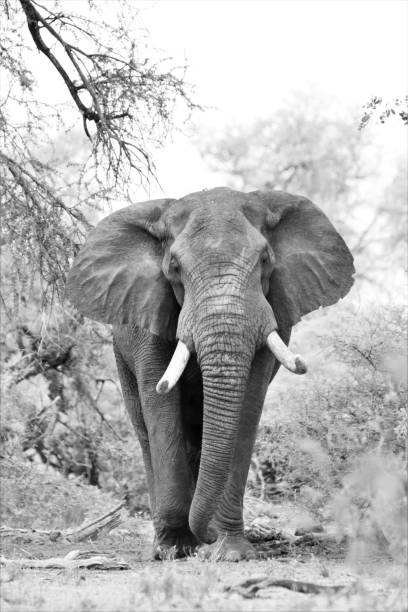africanelephant: (107, 189, 328, 429)
